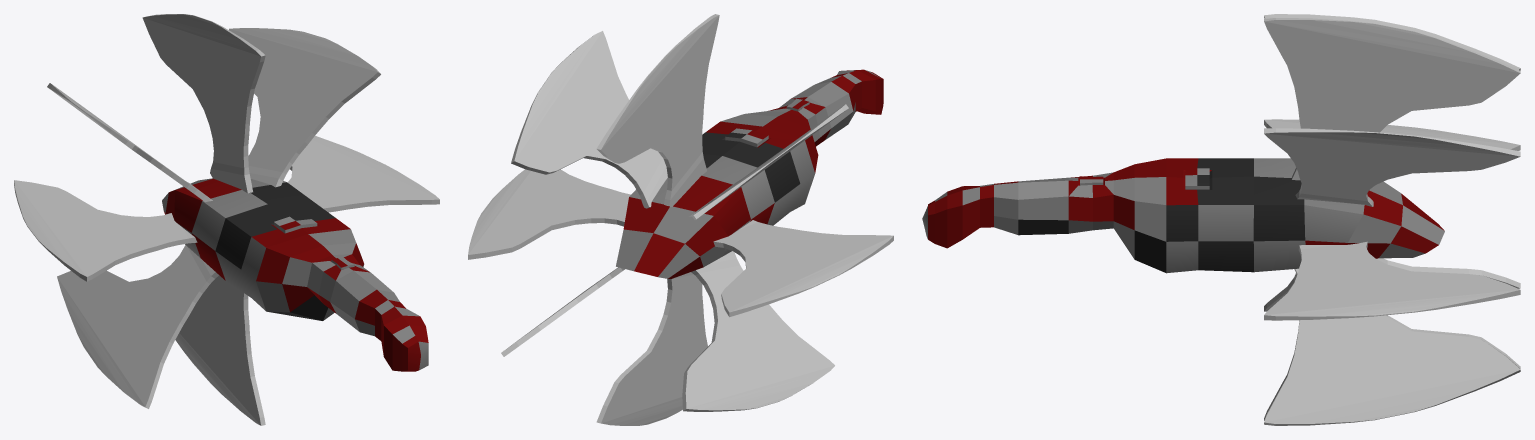
File: Vacuum Mace.fbx
3 views of the same model, side by side, from view 1: azimuth 30°, elevation 25°; view 2: azimuth 150°, elevation 25°; view 3: azimuth 270°, elevation 25° (orthographic). The views are drawn at different scales.
Parts seen in each view (by area): view 1: Box007, Box001; view 2: Box007, Box001; view 3: Box007, Box001.
Part boxes in pixels (<box>): Box007: <box>14,14,439,425</box>; Box001: <box>162,178,428,371</box>; Box007: <box>468,14,893,425</box>; Box001: <box>616,69,883,278</box>; Box007: <box>1264,14,1520,425</box>; Box001: <box>922,158,1444,273</box>.
Bounding box in the file's own units: 22.56 × 22.56 × 30.41.
